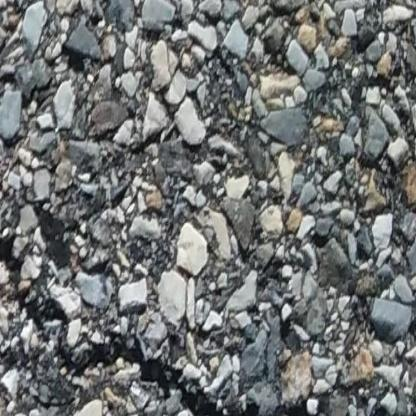Cracks: (0, 224, 336, 416)
